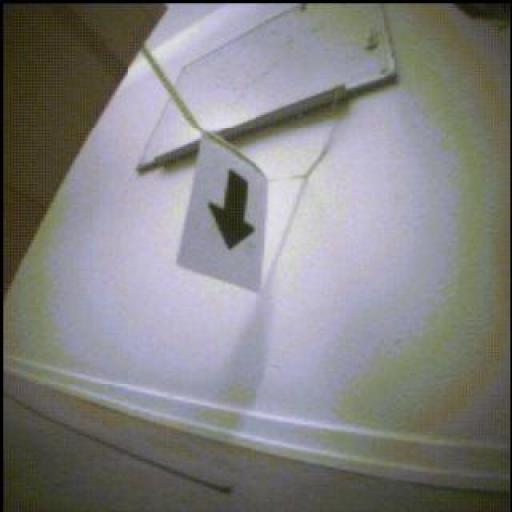arrow: (209, 171, 255, 251)
